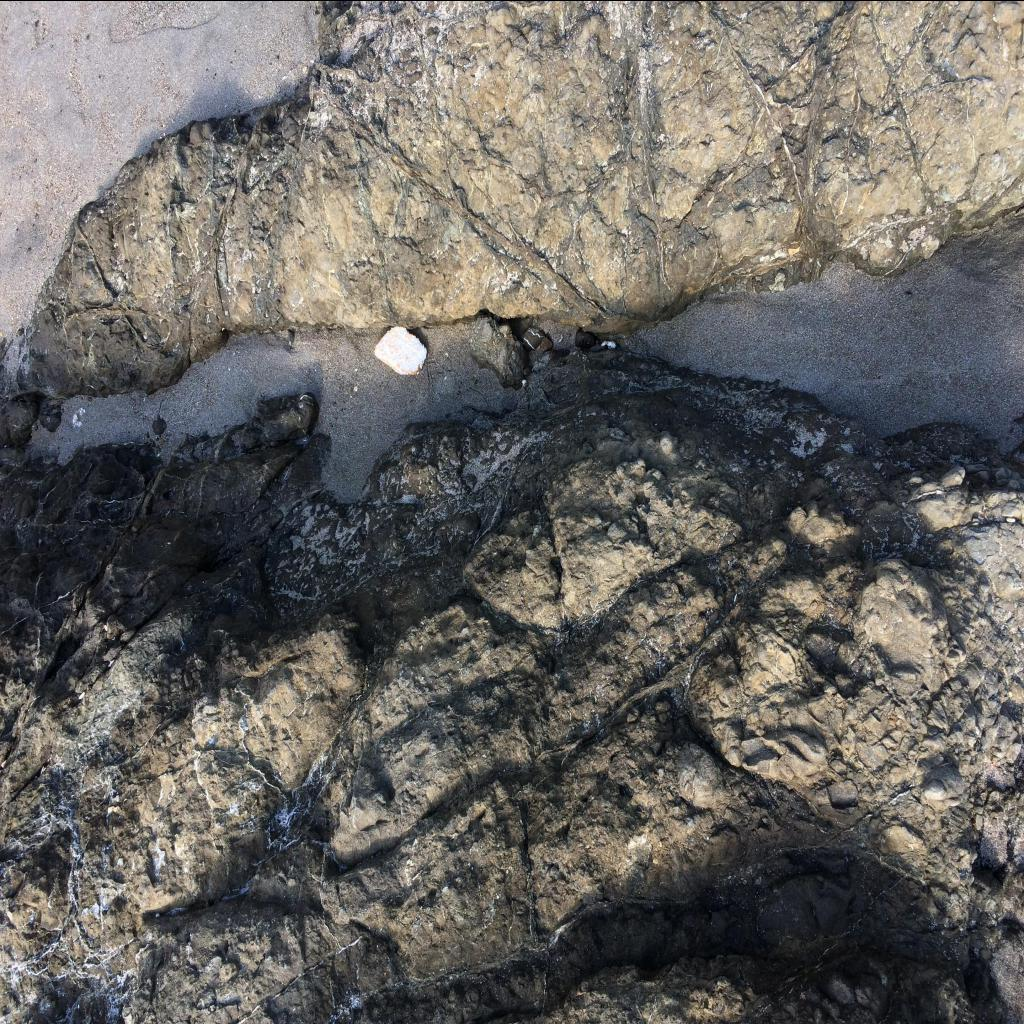Styrofoam piece: (374, 326, 426, 374)
